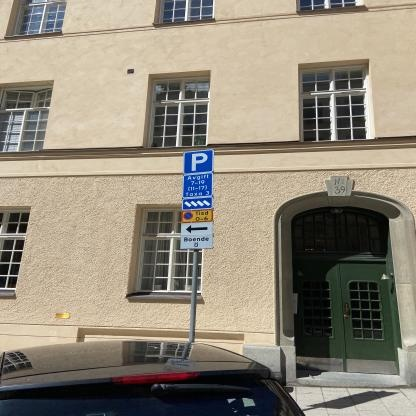P-skylt: (184, 150, 213, 176)
